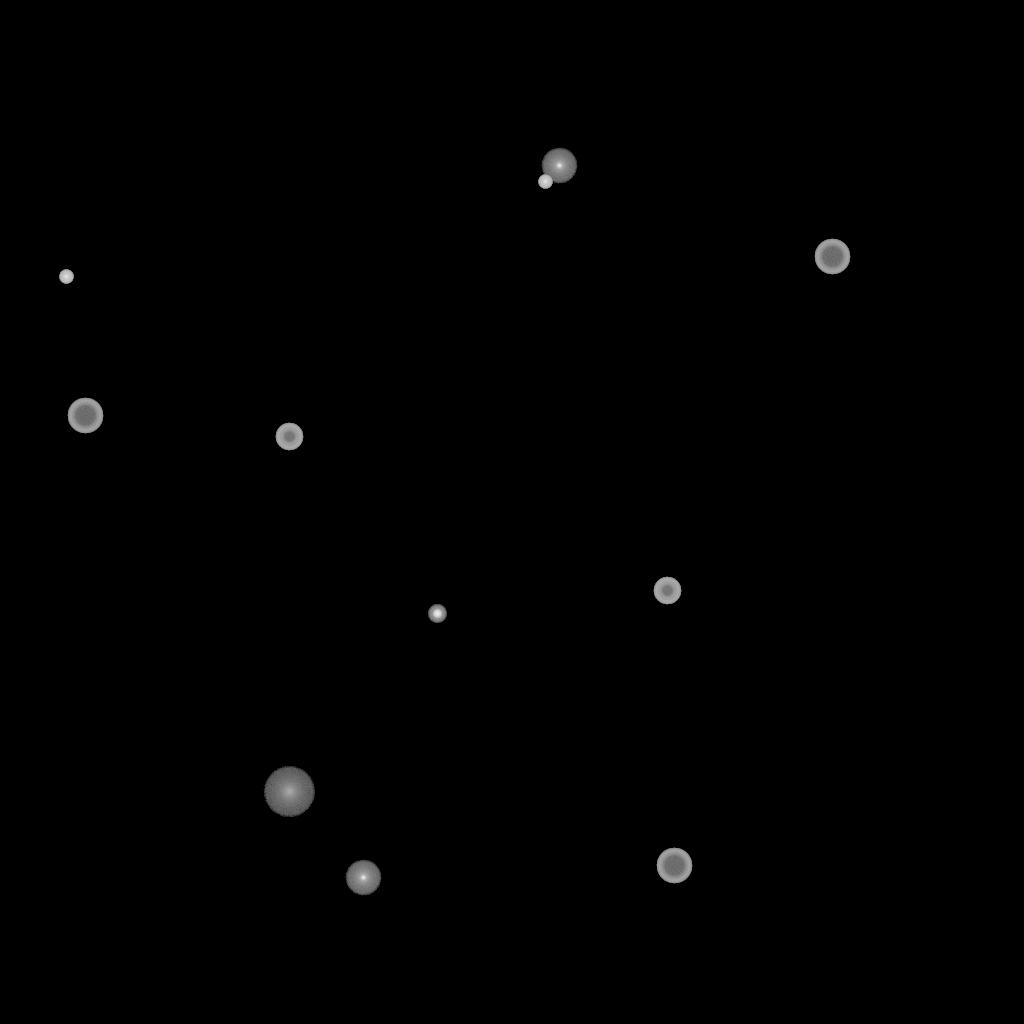depth:-20: (428, 605, 446, 623)
depth:-30: (538, 175, 552, 189), (59, 270, 73, 284)
depth:-50: (275, 423, 303, 451), (653, 577, 681, 605)
depth:-60: (67, 398, 103, 434), (814, 239, 850, 275), (656, 848, 692, 884)
depth:0: (345, 860, 381, 896), (541, 148, 577, 184)
depth:20: (263, 767, 315, 817)
